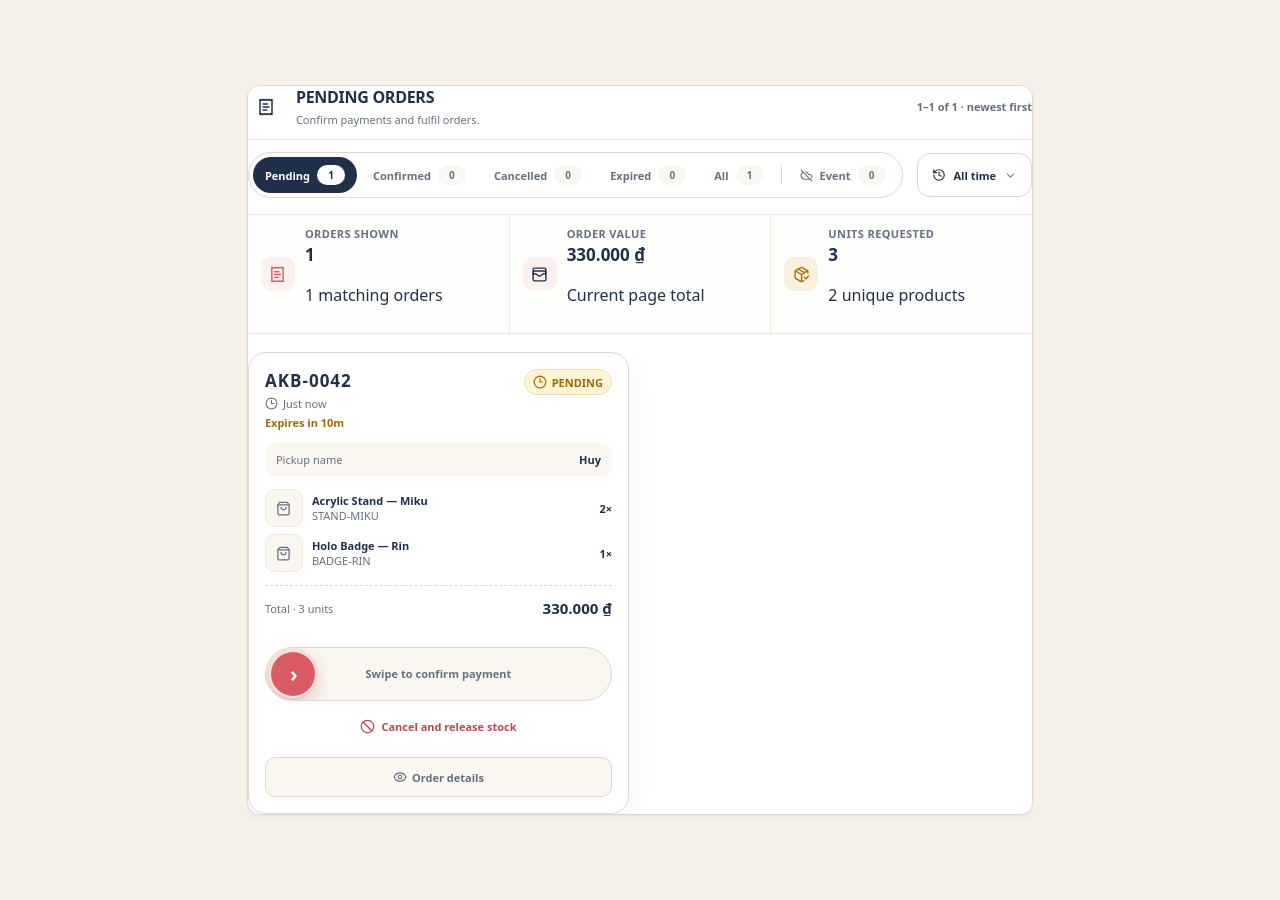
OrderQueue › cancels a pending order after the staff confirms the prompt
Click the button "Cancel and release stock" at (438,726), box [265,708,612,744]
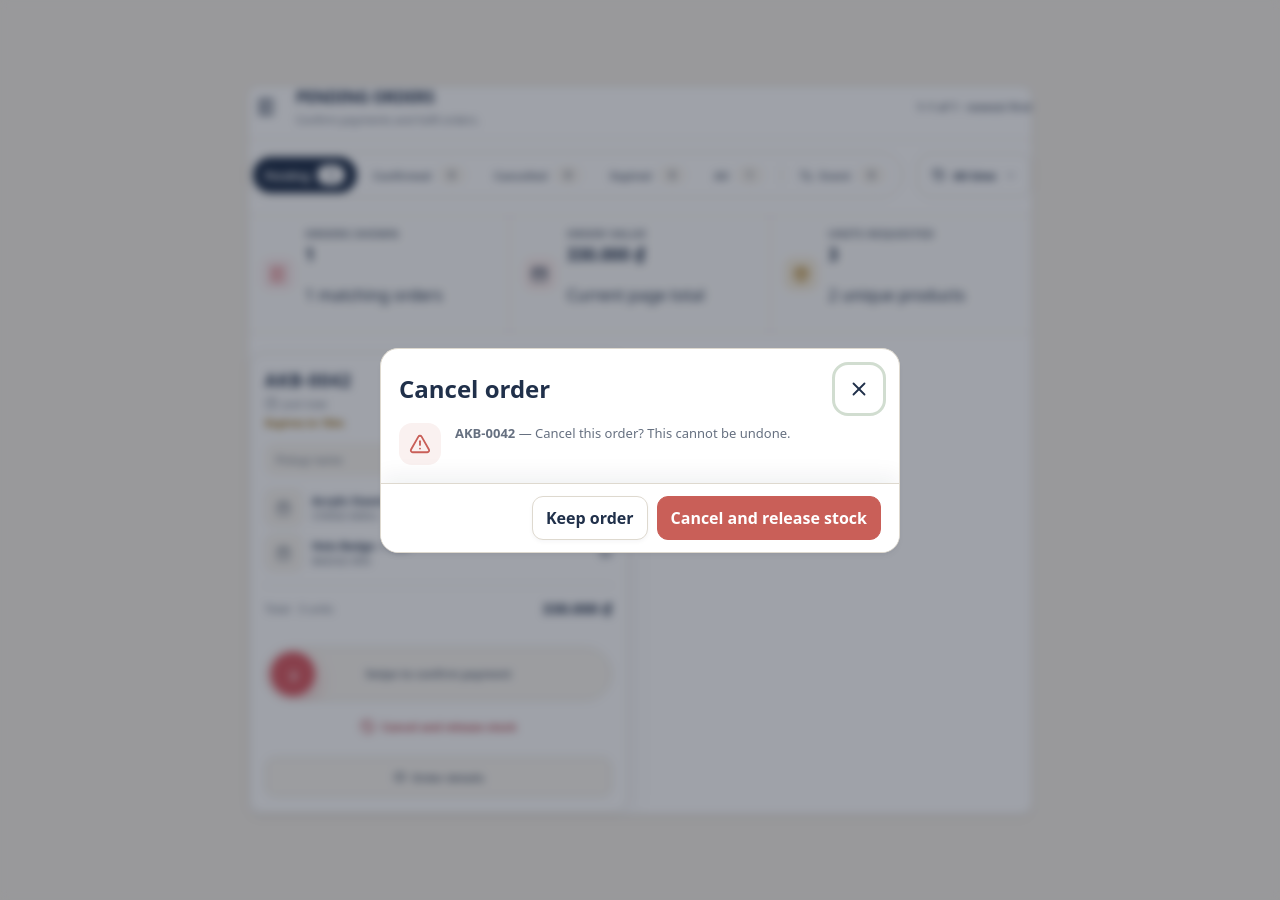
expect the dialog "Cancel order" is shown: met, box [380,348,900,552]
Click the button "Cancel and release stock" at (769,518), box [656,496,881,540]
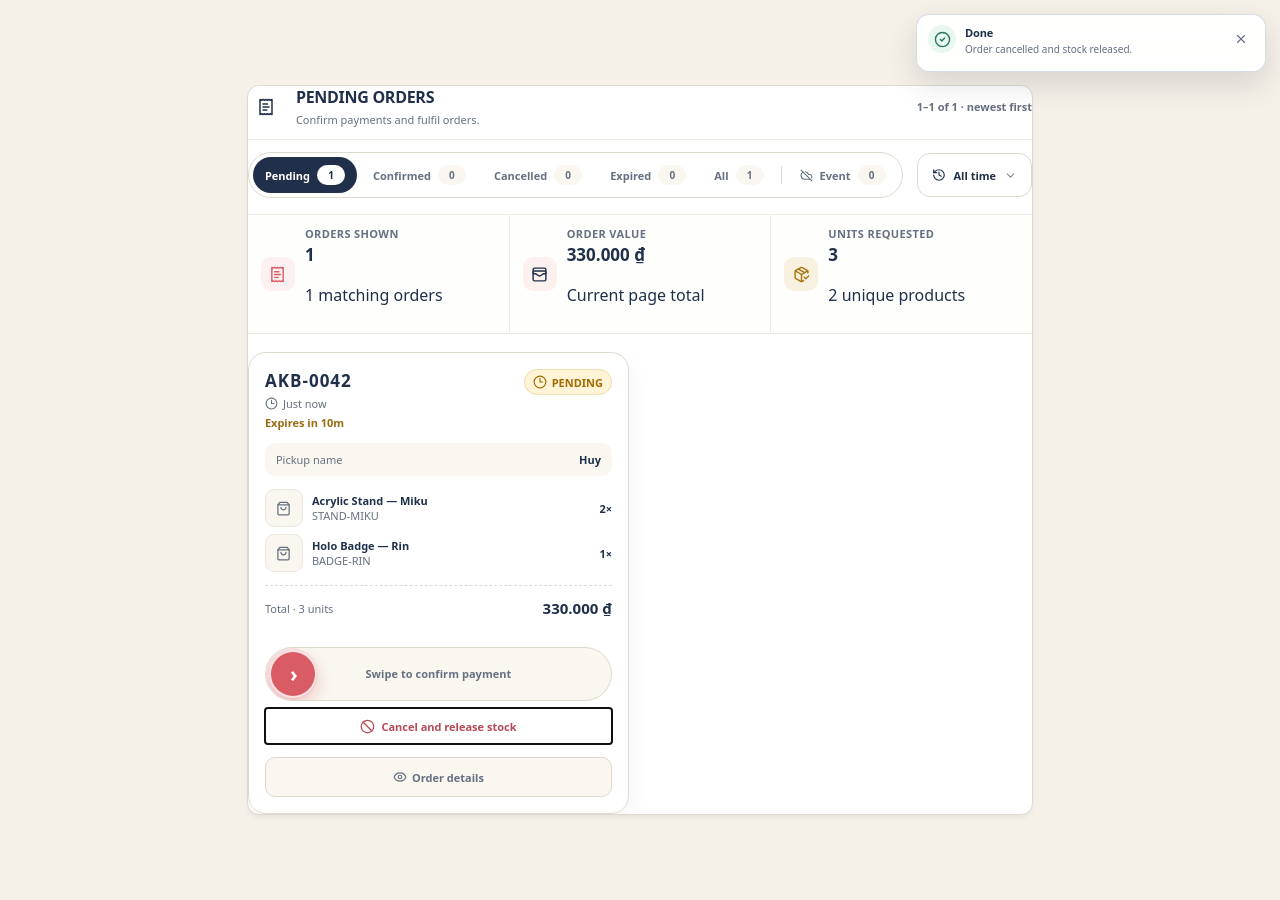
expect the text "Order cancelled and stock released." is shown: met, box [965,42,1132,56]
